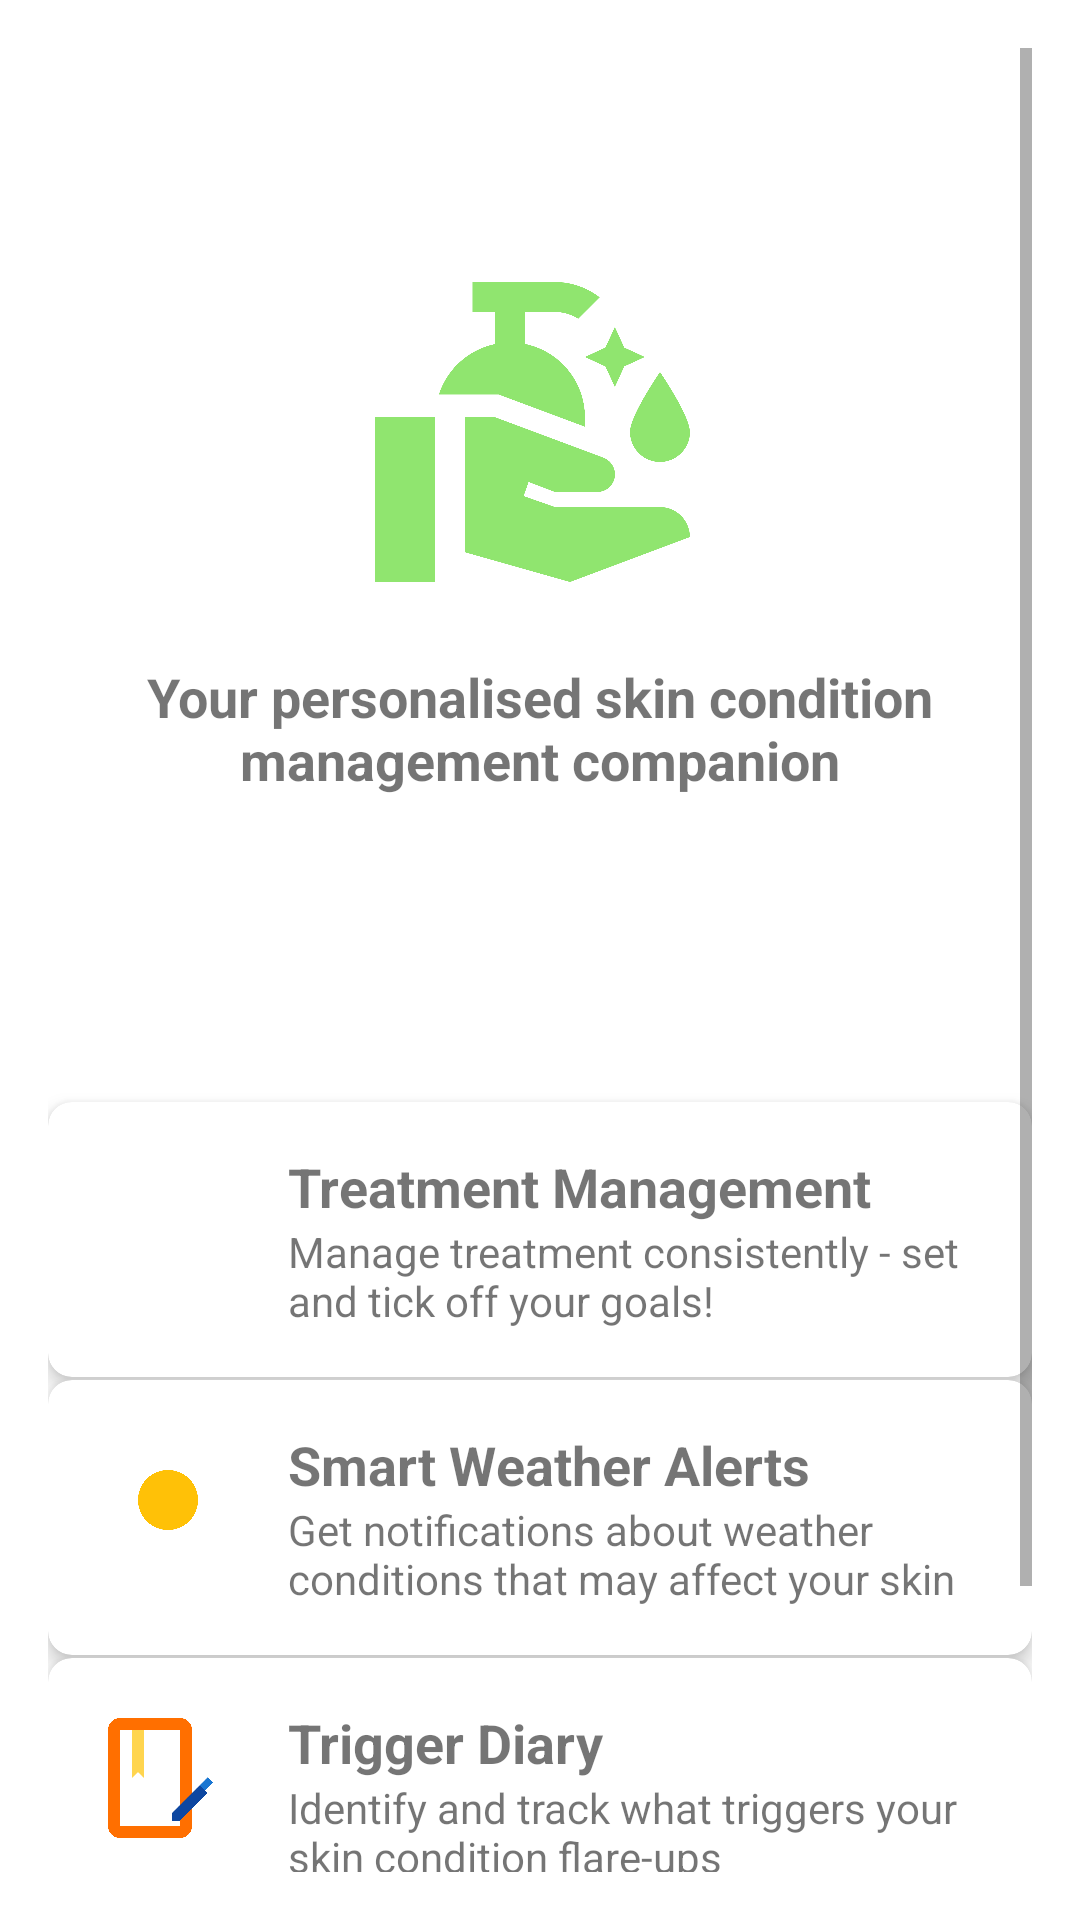

Locate icon controls on the screen. Image size 1080×1920, boxes as (x1, y1, x2, y2).
clean hands icon: (375, 282, 690, 582)
